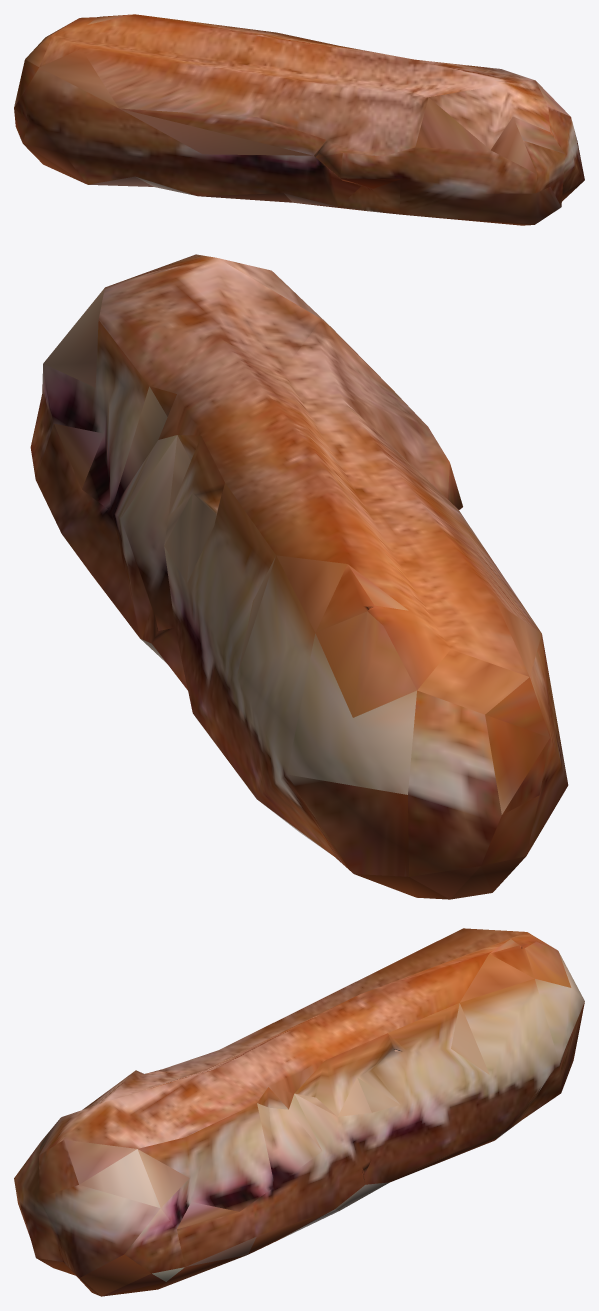
Rendered from eclaire_350.obj.
3 views of the same model, one above another, from view 1: azimuth 30°, elevation 25°; view 2: azimuth 150°, elevation 25°; view 3: azimuth 270°, elevation 25° (orthographic). The views are drawn at different scales.
Bounding box in the file's own units: 94.06 × 31.45 × 91.44.
1 material, 1 textured.
